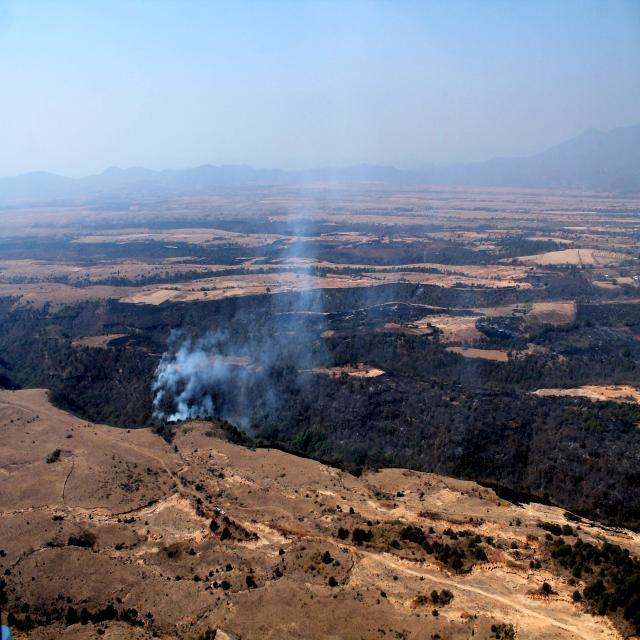Smoke: (141, 252, 329, 402)
